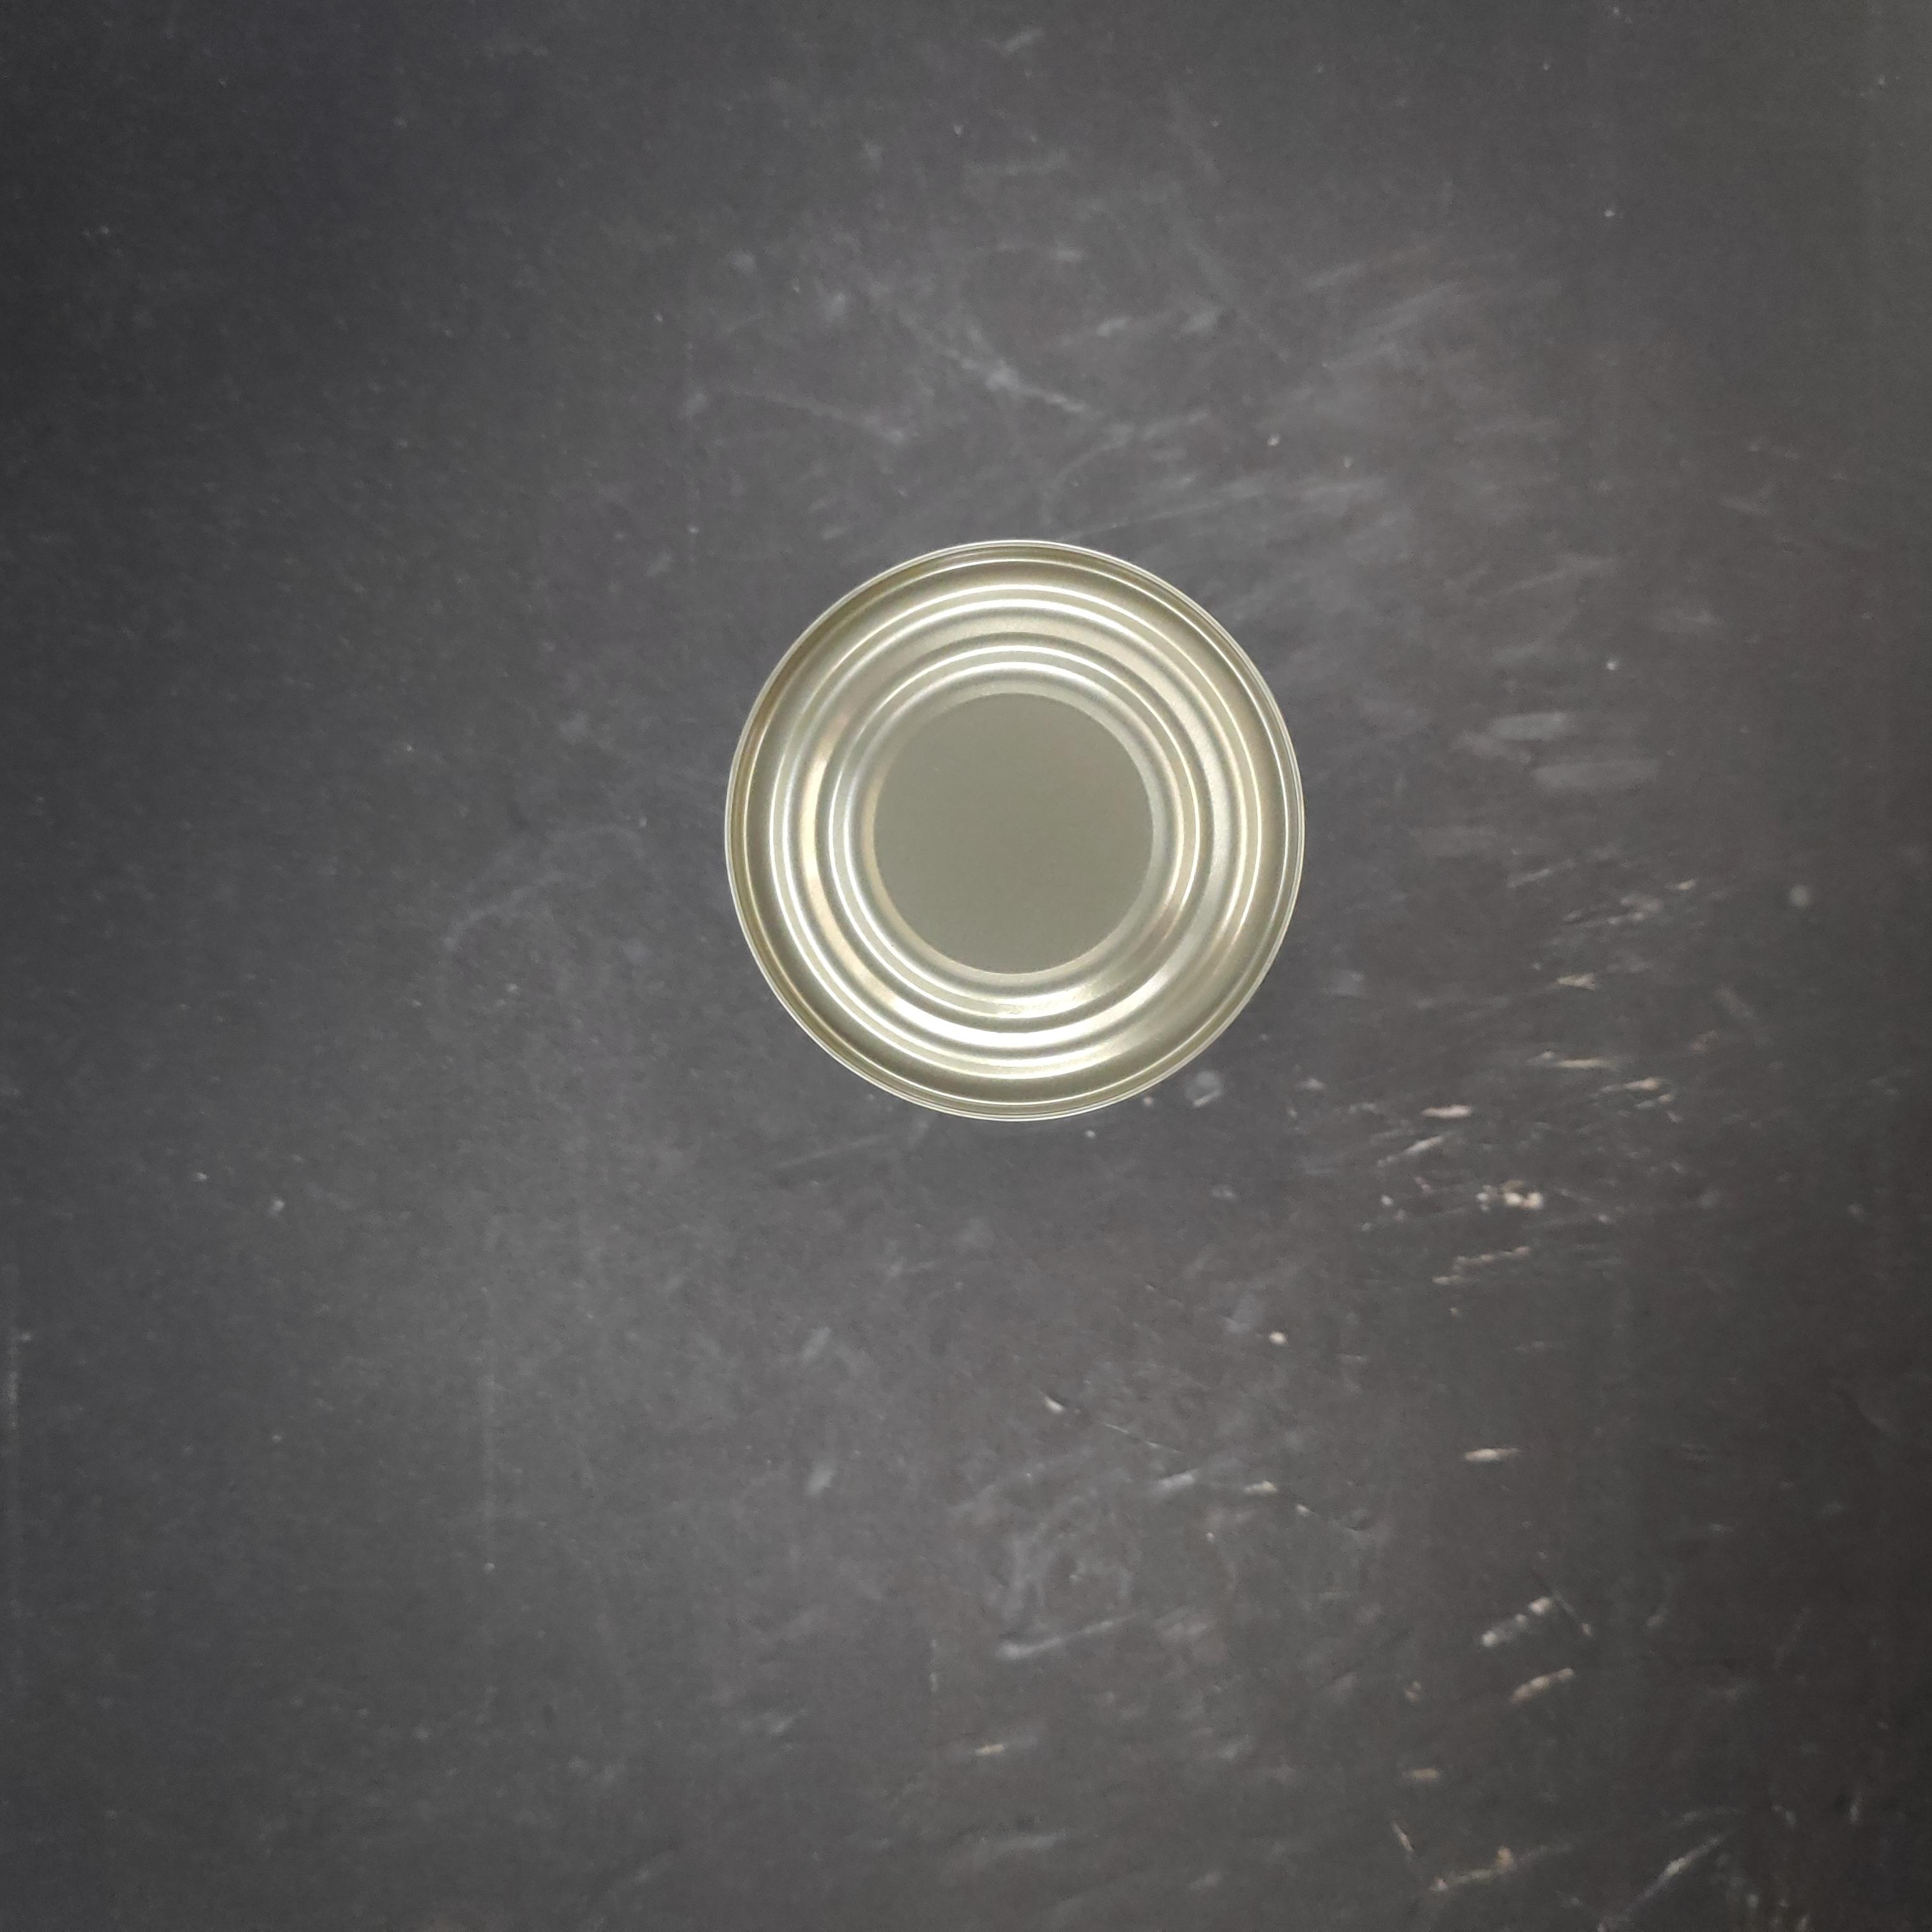No defect: (538, 625, 1125, 1210)
